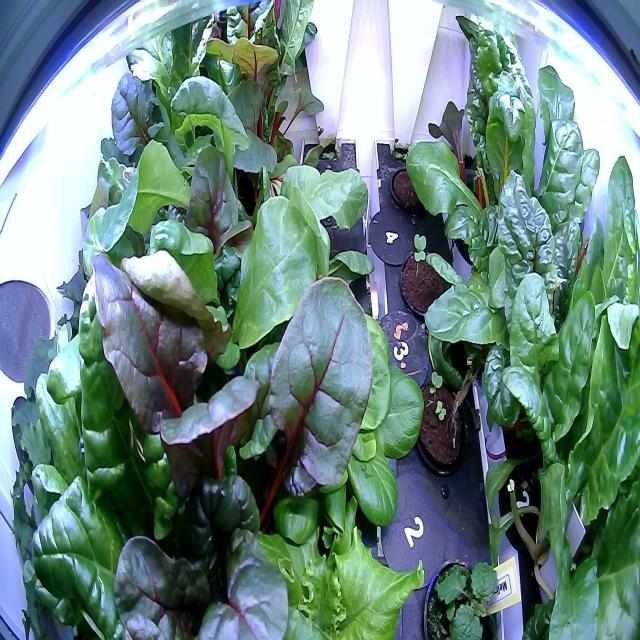germination: (408, 358, 471, 484), (396, 228, 462, 324)
pod: (388, 157, 438, 221)
